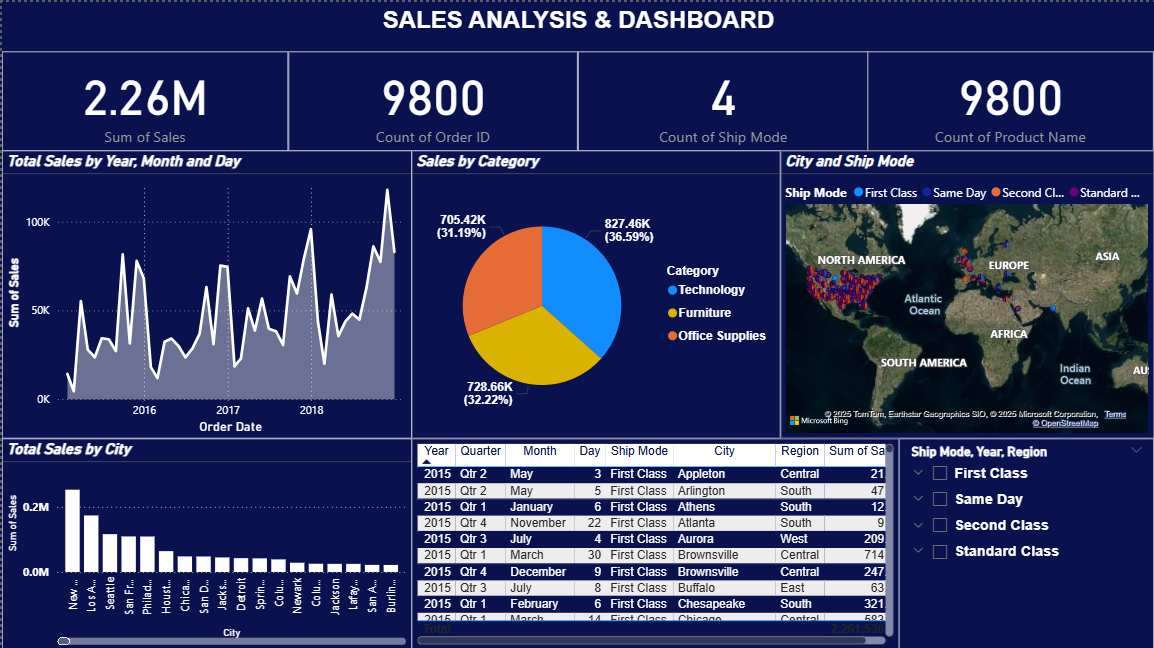

This screenshot's page, from the dashboard's own definition file:
{"tool":"powerbi","page":{"name":"SALES OVERVIEW","canvas":[1280,720],"ordinal":0},"visuals":[{"type":"card","fields":{"Values":["Sum(cleaned_sales_data.Sales)"]},"box":[0,54.7,318,111],"z":0},{"type":"textbox","box":[318,0,644.4,54.7],"z":1000},{"type":"card","fields":{"Values":["CountNonNull(cleaned_sales_data.Order ID)"]},"box":[318,54.7,321.4,111],"z":2000},{"type":"card","fields":{"Values":["Count(cleaned_sales_data.Ship Mode)"]},"box":[639.4,54.7,323,111],"z":3000},{"type":"card","fields":{"Values":["CountNonNull(cleaned_sales_data.Product Name)"]},"box":[962.4,54.7,318,111],"z":4000},{"type":"lineChart","title":"Total Sales by Year, Month and Day","fields":{"Y":["Sum(monthly_sales.Sales)"],"Category":["monthly_sales.Order Date.Variation.Date Hierarchy.Year"]},"box":[0,165,455,320],"z":5000},{"type":"pieChart","title":"Sales by Category","fields":{"Y":["Sum(cleaned_sales_data.Sales)"],"Category":["cleaned_sales_data.Category"]},"box":[455,165,410,320],"z":6000},{"type":"slicer","fields":{"Values":["ship_mode_sales.Ship Mode","cleaned_sales_data.Year","cleaned_sales_data.Region"]},"box":[996.7,485,283.3,235],"z":7000},{"type":"columnChart","title":"Total Sales by City","fields":{"Y":["Sum(cleaned_sales_data.Sales)"],"Category":["cleaned_sales_data.City"]},"box":[0,485,455,235],"z":8000},{"type":"map","fields":{"Category":["cleaned_sales_data.City"],"Series":["cleaned_sales_data.Ship Mode"]},"box":[865,165,415,320],"z":9000},{"type":"tableEx","fields":{"Values":["cleaned_sales_data.Order Date.Variation.Date Hierarchy.Year","cleaned_sales_data.Order Date.Variation.Date Hierarchy.Quarter","cleaned_sales_data.Order Date.Variation.Date Hierarchy.Month","cleaned_sales_data.Order Date.Variation.Date Hierarchy.Day","cleaned_sales_data.Ship Mode","cleaned_sales_data.City","cleaned_sales_data.Region","Sum(cleaned_sales_data.Sales)"]},"box":[455,485,541.7,235],"z":10000}]}

Visuals, with their boxes in screenshot pixels (x1, y1, x2, y2), scaled from the page's 1280x720 canvas onto the 1154x648 screenshot:
card - Sum(cleaned_sales_data.Sales): box=[0, 49, 287, 149]
textbox: box=[287, 0, 868, 49]
card - CountNonNull(cleaned_sales_data.Order ID): box=[287, 49, 576, 149]
card - Count(cleaned_sales_data.Ship Mode): box=[576, 49, 868, 149]
card - CountNonNull(cleaned_sales_data.Product Name): box=[868, 49, 1153, 149]
"Total Sales by Year, Month and Day" lineChart: box=[0, 148, 410, 436]
"Sales by Category" pieChart: box=[410, 148, 780, 436]
slicer - ship_mode_sales.Ship Mode x cleaned_sales_data.Year: box=[899, 436, 1153, 647]
"Total Sales by City" columnChart: box=[0, 436, 410, 647]
map - cleaned_sales_data.City x cleaned_sales_data.Ship Mode: box=[780, 148, 1153, 436]
tableEx - cleaned_sales_data.Order Date.Variation.Date Hierarchy.Year x cleaned_sales_data.Order Date.Variation.Date Hierarchy.Quarter: box=[410, 436, 899, 647]
